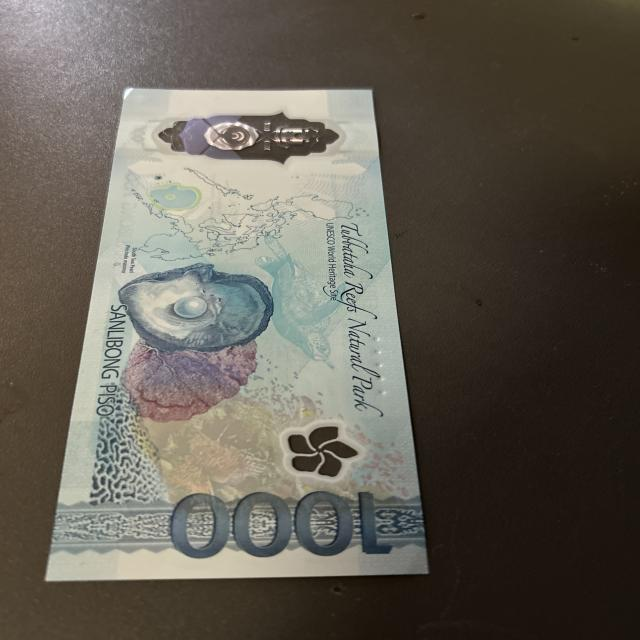clear_window: (159, 107, 343, 168)
sampaguita: (275, 422, 362, 479)
value: (170, 487, 408, 564)
